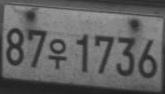1: (74, 33, 93, 72)
3: (116, 36, 135, 77)
6: (137, 39, 158, 78)
7: (26, 28, 47, 67), (94, 34, 114, 74)
8: (5, 26, 25, 66)
우: (48, 38, 67, 69)
